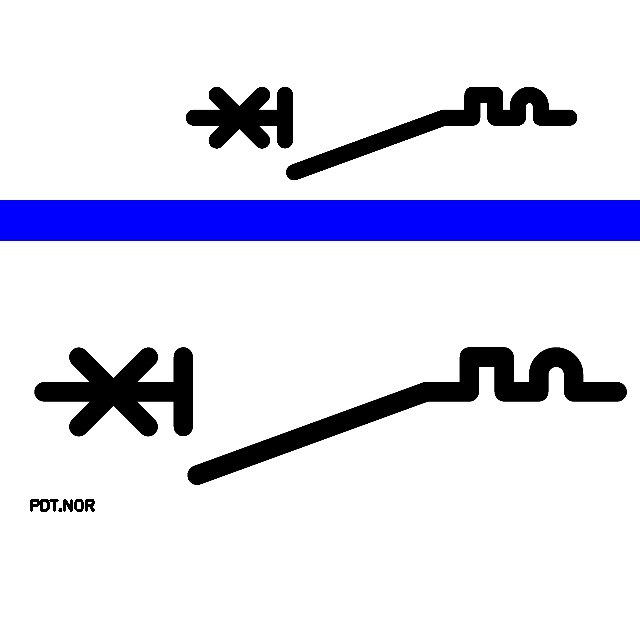interruptor_termomagnetico: (29, 342, 632, 489), (184, 85, 579, 181)
